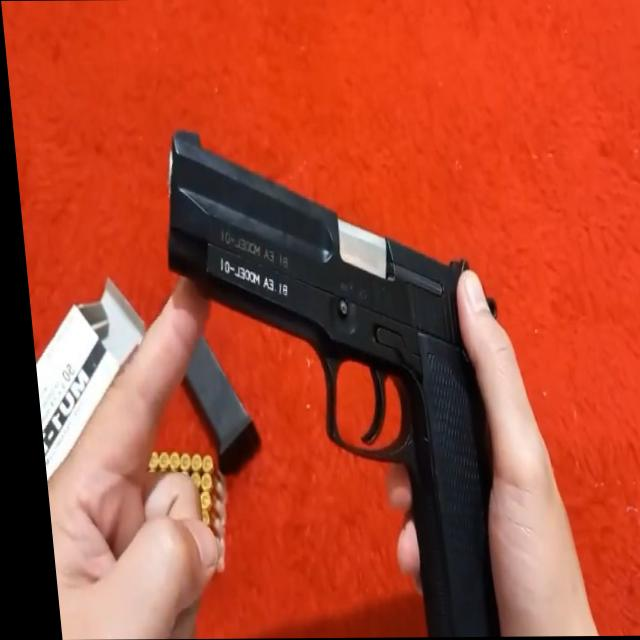handgun: (148, 107, 520, 639)
